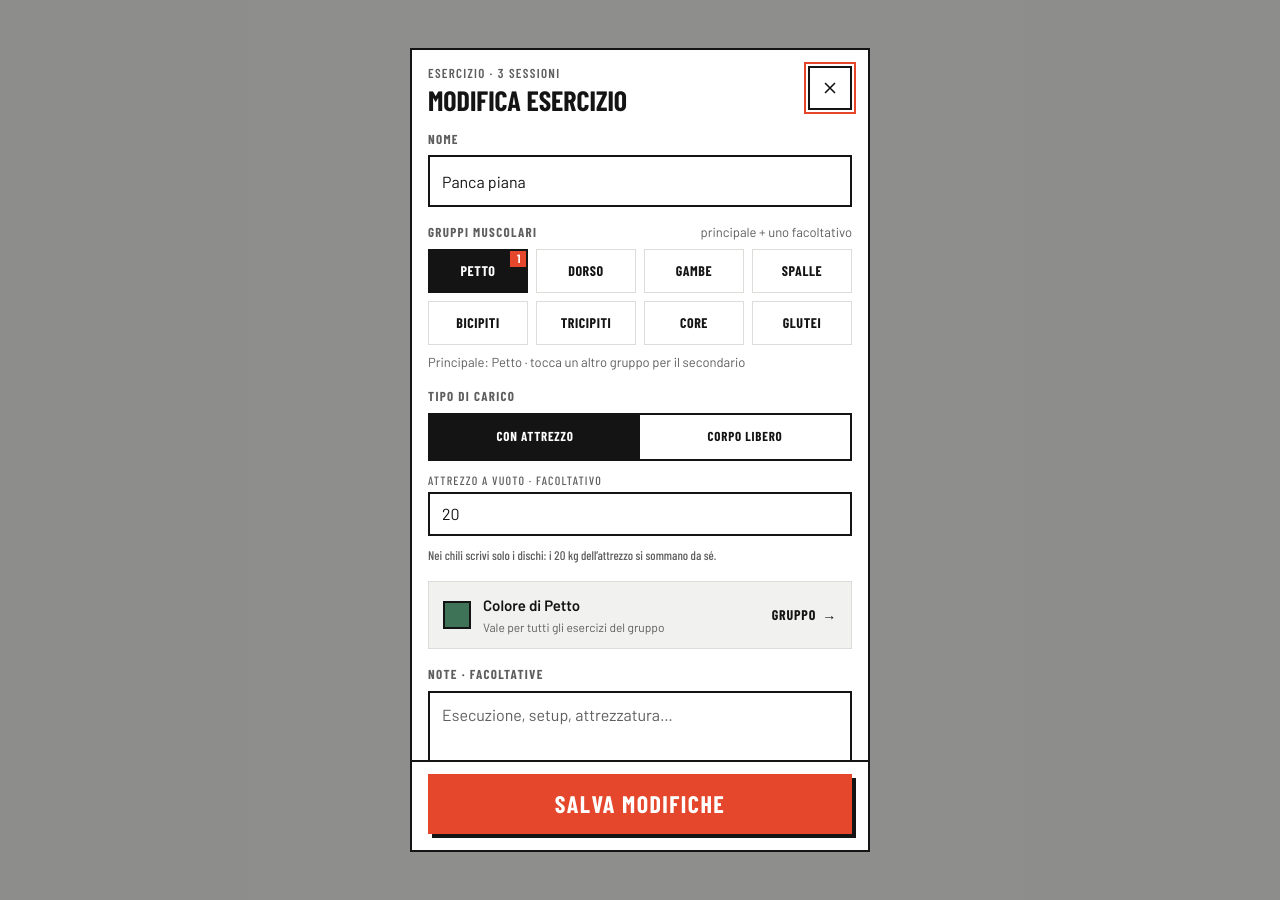
l’attrezzo anche sulle alzate già registrate › la casella conta solo quelle senza attrezzo, e non c’è togliendolo
Replace the text in the field named "Peso dell’attrezzo a vuoto" with "15" at (640, 514), box [428,492,852,536]
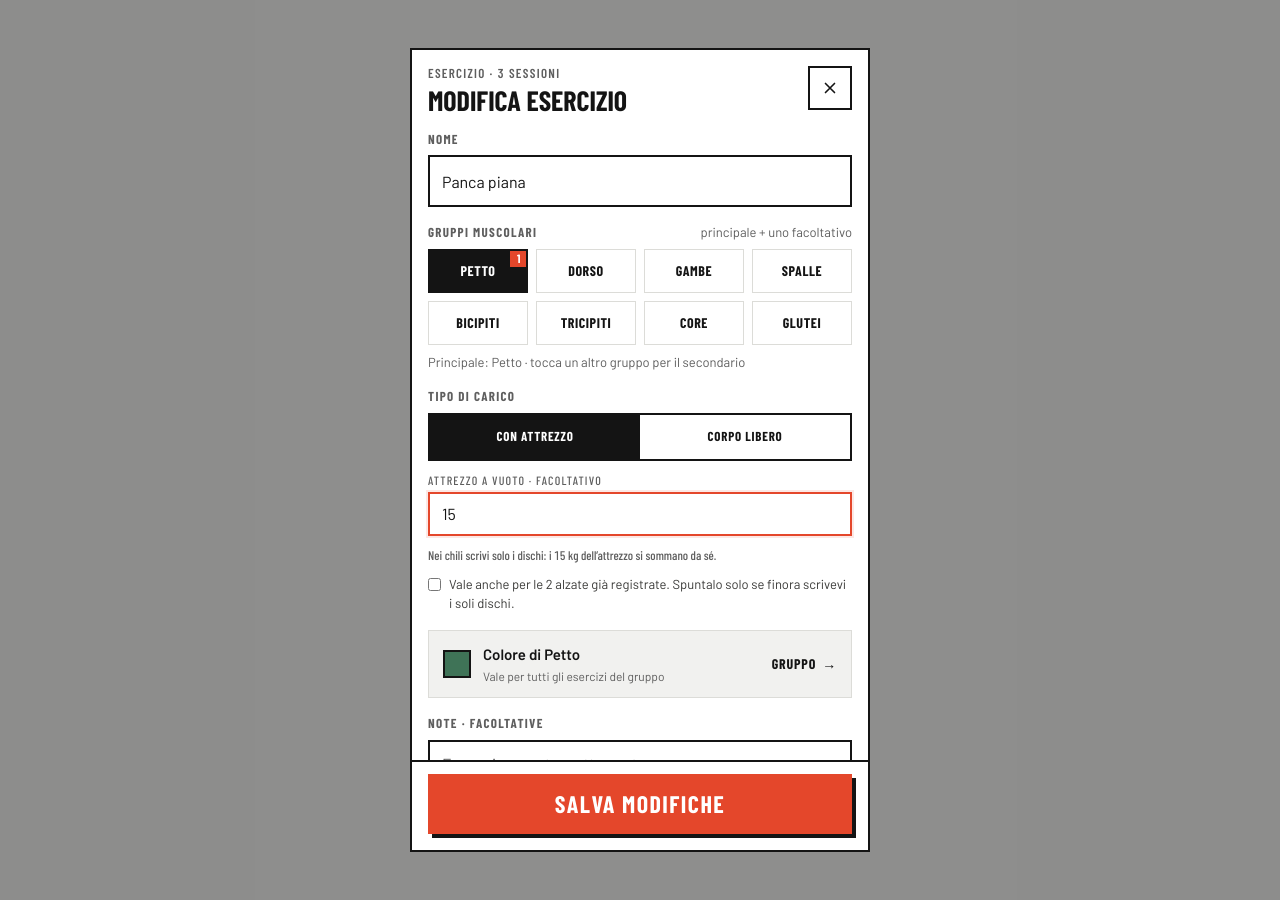
Check: the checkbox labelled "anche per le 2 alzate già registrate" is shown, box [428,578,441,591]
Clear the field named "Peso dell’attrezzo a vuoto" at (640, 514), box [428,492,852,536]
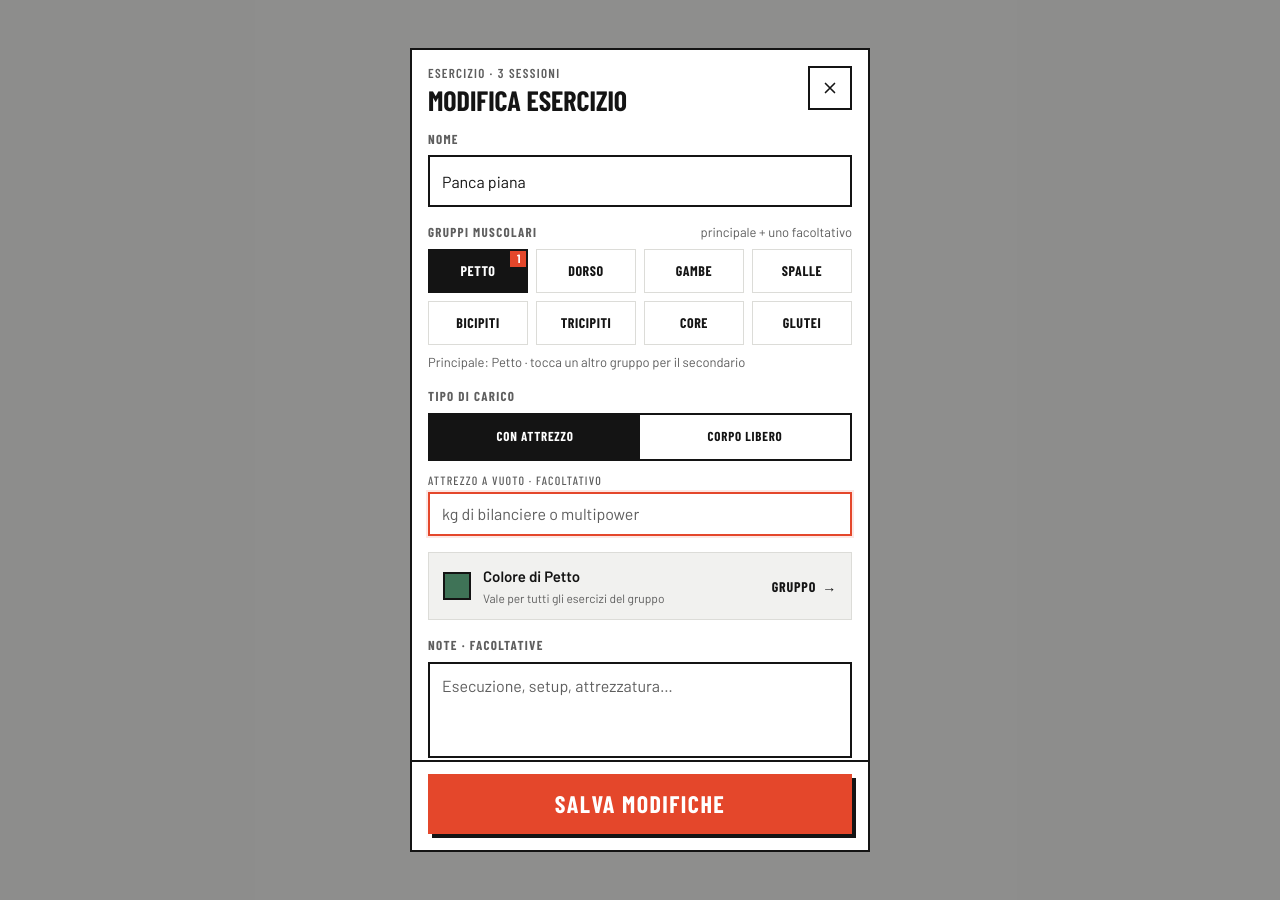
Check: the checkbox is gone
